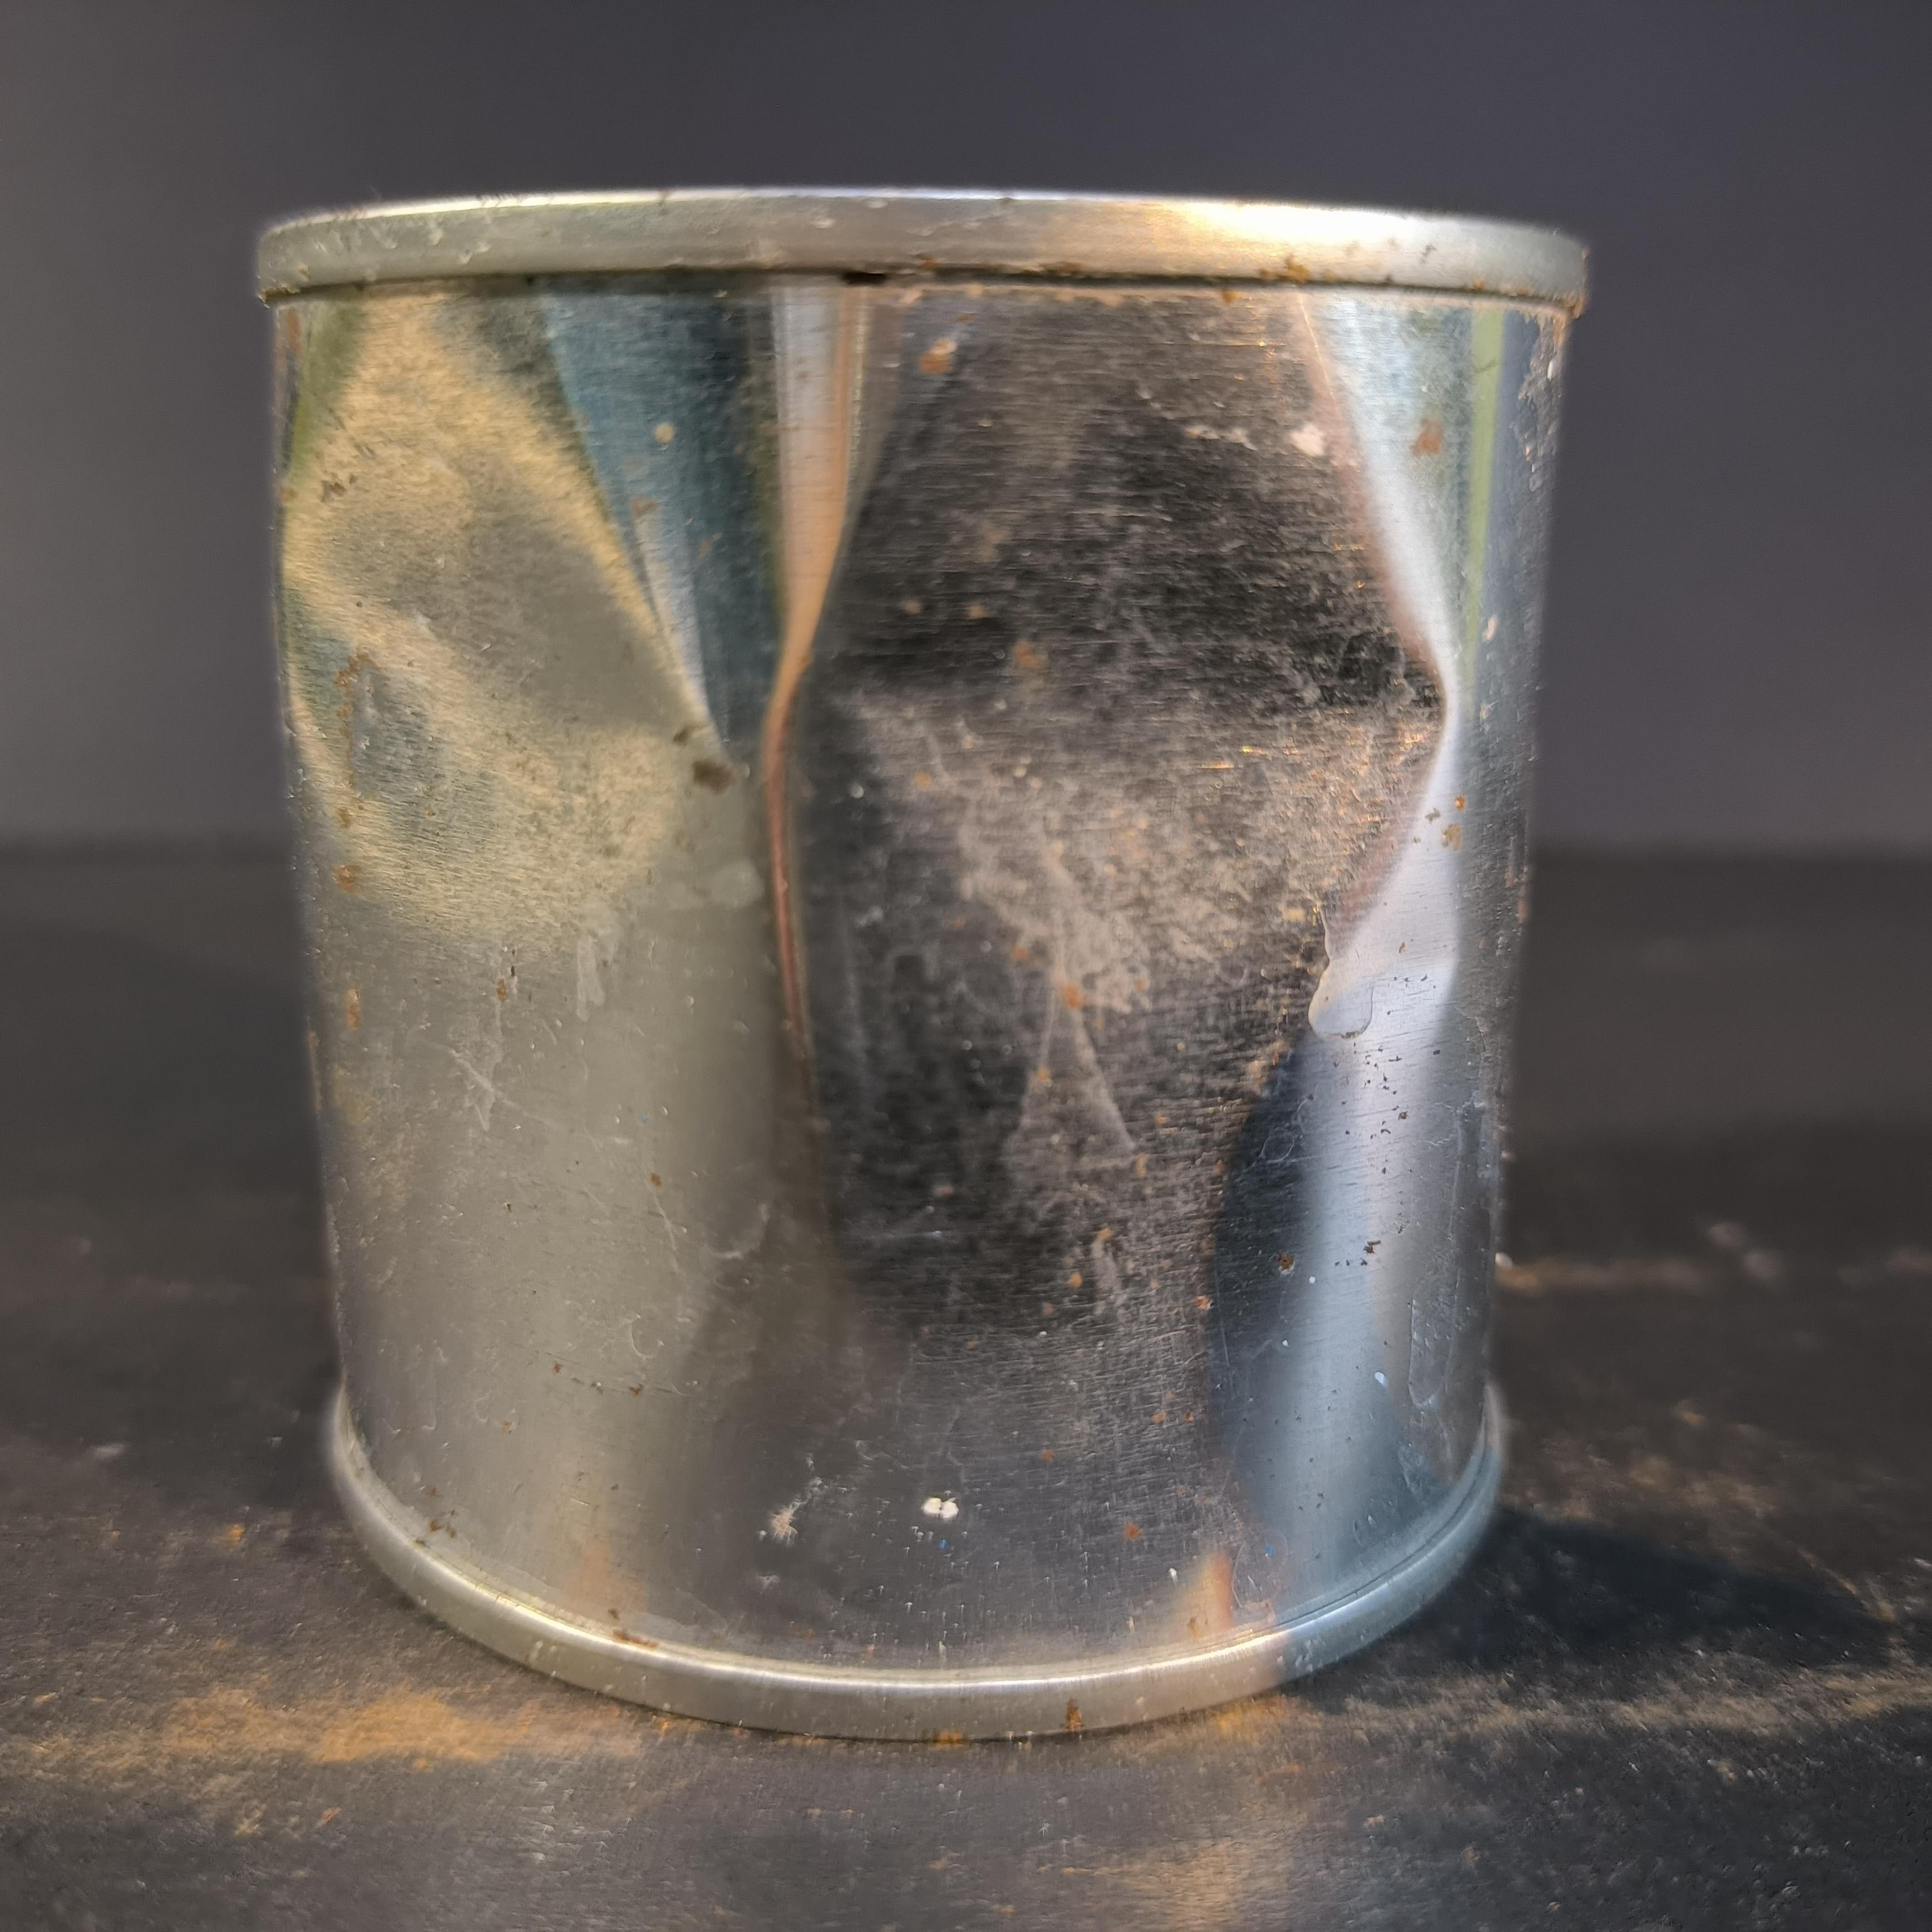Dented: (242, 165, 1631, 1773)
